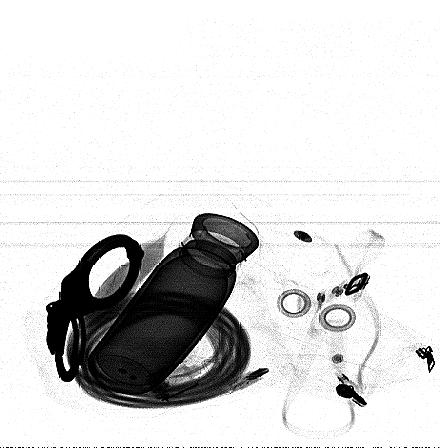HandCuffs: (45, 233, 145, 383)
